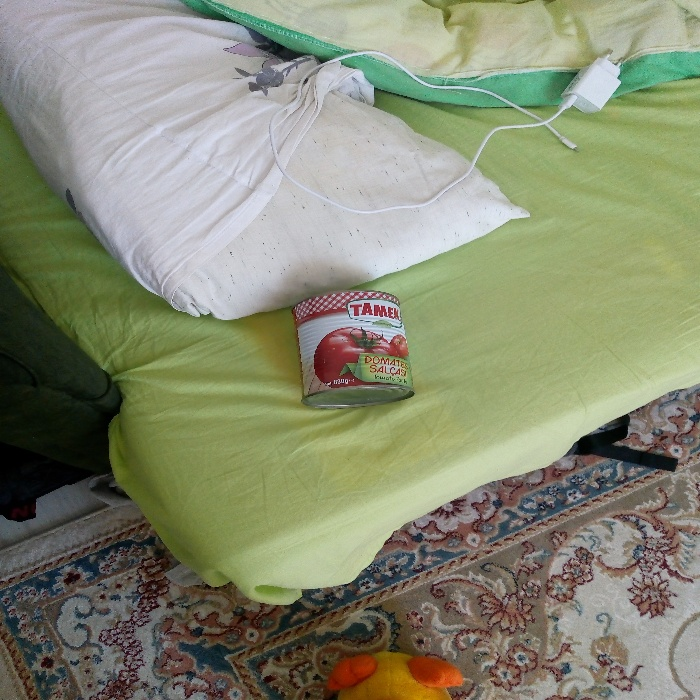salca: (286, 280, 425, 409)
